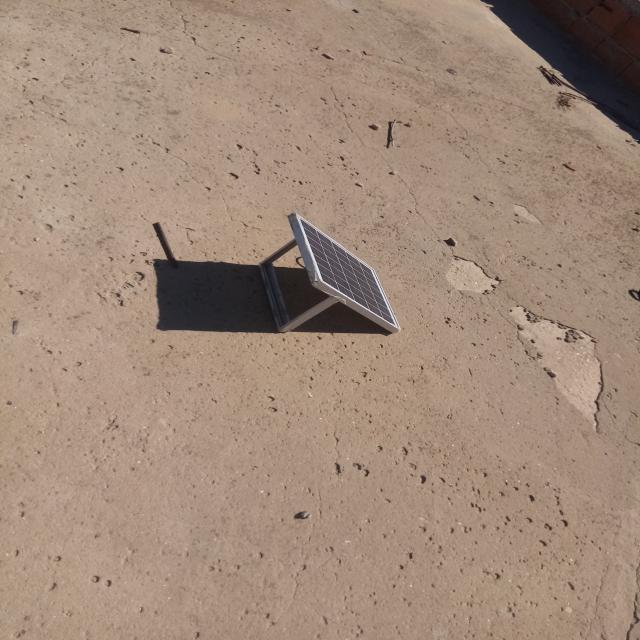no faulty: (296, 213, 401, 329)
